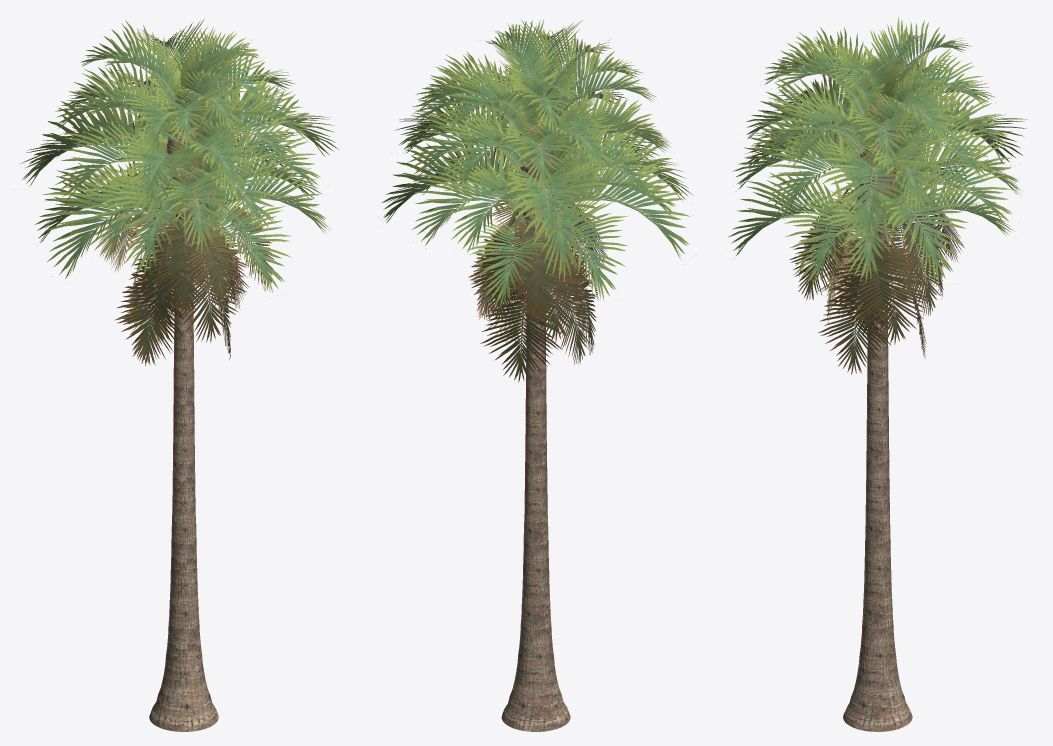
Rendered from realistic_palm_tree_4_free.glb.
3 views of the same model, side by side, from view 1: azimuth 30°, elevation 25°; view 2: azimuth 150°, elevation 25°; view 3: azimuth 270°, elevation 25° (orthographic).
Visible parts, largest first — view 1: Tree_1; view 2: Tree_1; view 3: Tree_1.
Boxes of the visible parts, x1=… form: Tree_1: x1=20, y1=18, x2=339, y2=731; Tree_1: x1=381, y1=19, x2=693, y2=731; Tree_1: x1=728, y1=17, x2=1027, y2=731.
Bounding box in the file's own units: 7.09 × 15.94 × 6.6.
Materials: 2 (2 with a texture image).
